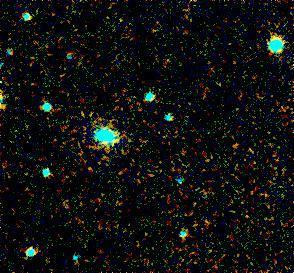star: (48, 189, 78, 219)
